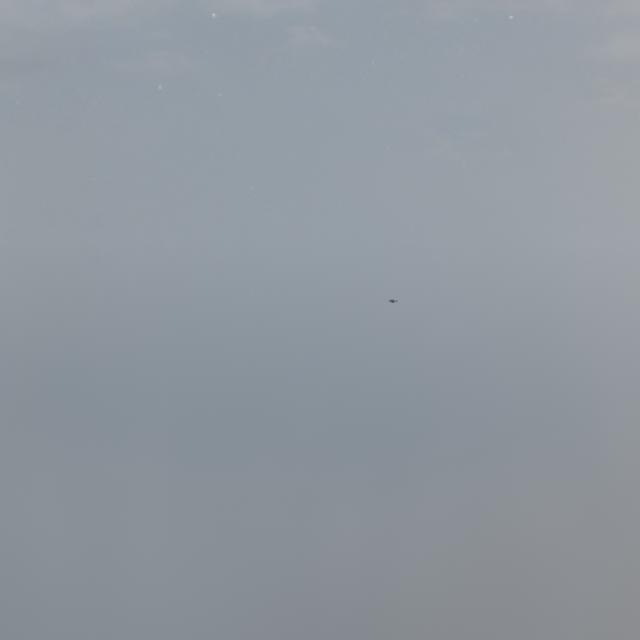Airaplan: (389, 299, 398, 303)
